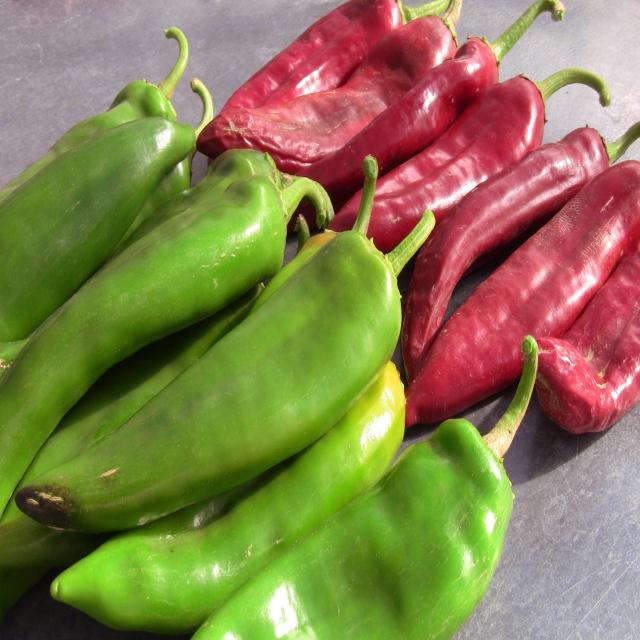Chilli Pepper: (0, 190, 448, 555), (0, 111, 356, 548), (114, 335, 562, 640), (0, 314, 434, 623), (299, 87, 640, 471), (205, 0, 566, 284), (0, 0, 239, 326)
